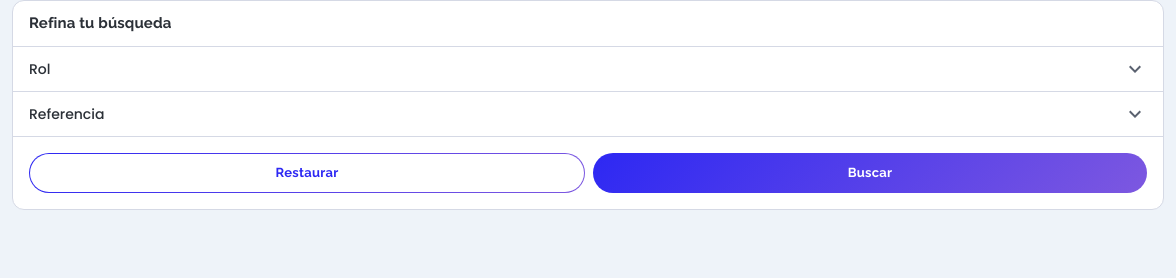
<FilterAdvanced /> › cada fila se despliega para mostrar su control
Click the button "Referencia": (67, 114) 13,92 -> 1163,136
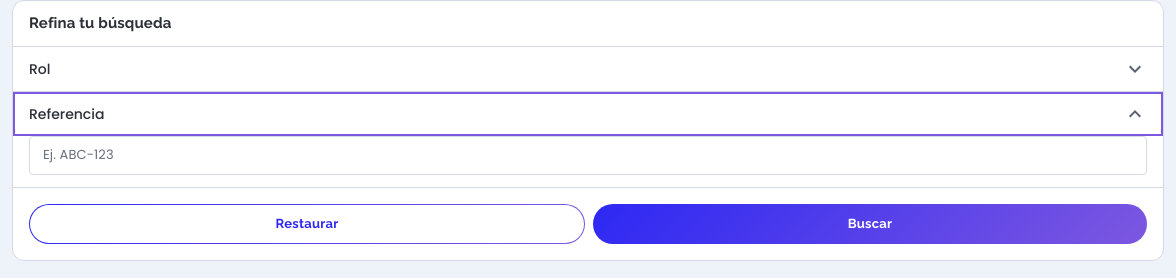
Check: the button "Referencia" is expanded, box 13,92 -> 1163,136
